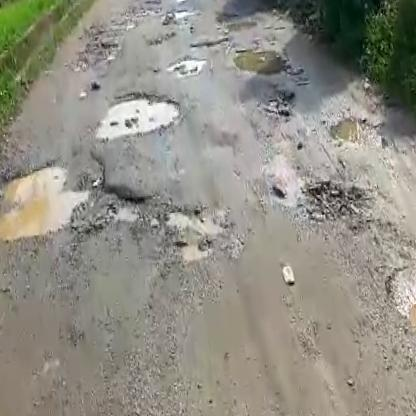pothole: (0, 148, 114, 245), (90, 86, 186, 144), (302, 168, 377, 232), (163, 201, 232, 266), (383, 253, 416, 353), (326, 108, 389, 149), (233, 44, 296, 83), (257, 86, 303, 121), (161, 51, 207, 76)
